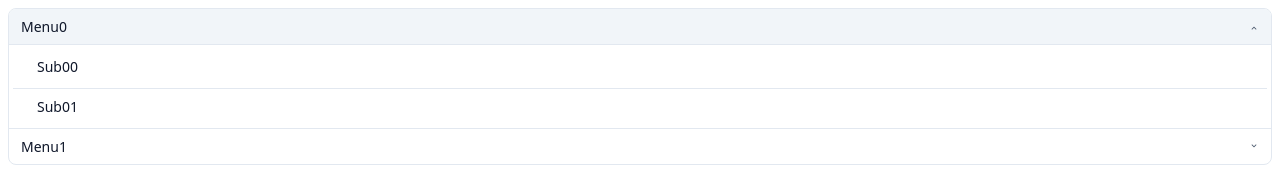
Test case: PanelMenu › supports model-driven lists with per-item expanded state
Expected: the text "Sub00" is shown, [37, 57, 78, 76]
Click the button "Menu1".
click(44, 146)  # box [9, 129, 1271, 164]
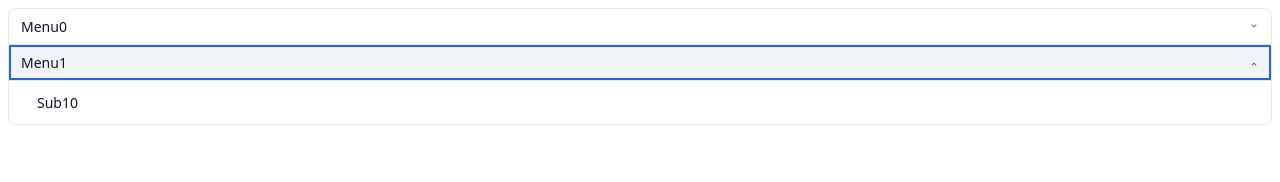
Expected: the text "Sub10" is shown, [37, 93, 78, 112]
